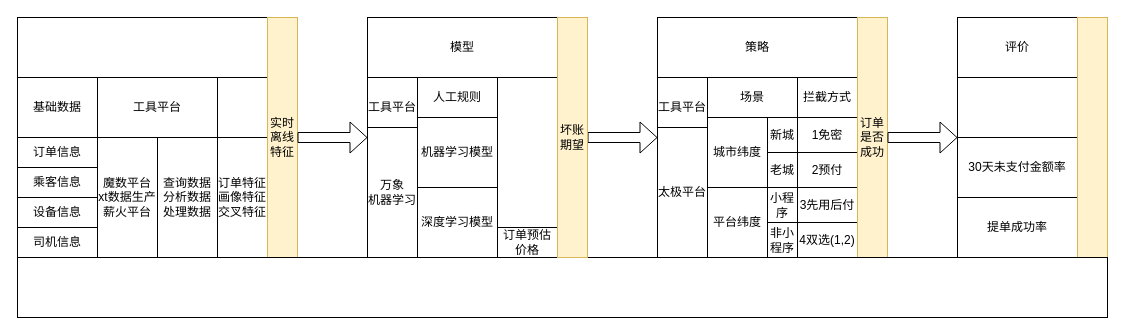
This 1125x335 diagram has some shape labels left out. Each missing label, with the box of its shape:
team goal: (1076, 16, 1108, 258)
拦截率: (956, 76, 1078, 138)
数据: (16, 16, 268, 78)
特征: (216, 76, 268, 138)
用户未支付概率: (496, 76, 558, 228)
锁款业务: (16, 256, 1108, 318)
